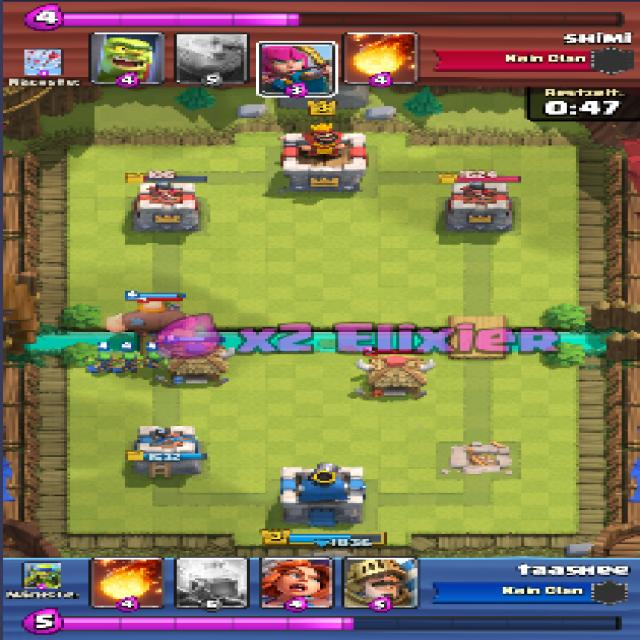Enemy-GoblinHut: (349, 355, 440, 400)
Enemy-MiniPEKKA: (132, 298, 183, 312)
Player-Giant: (100, 302, 201, 334)
Player-GoblinHut: (149, 342, 240, 386)
Player-SpearGoblin: (137, 352, 168, 373), (86, 353, 115, 375), (116, 352, 140, 374)
